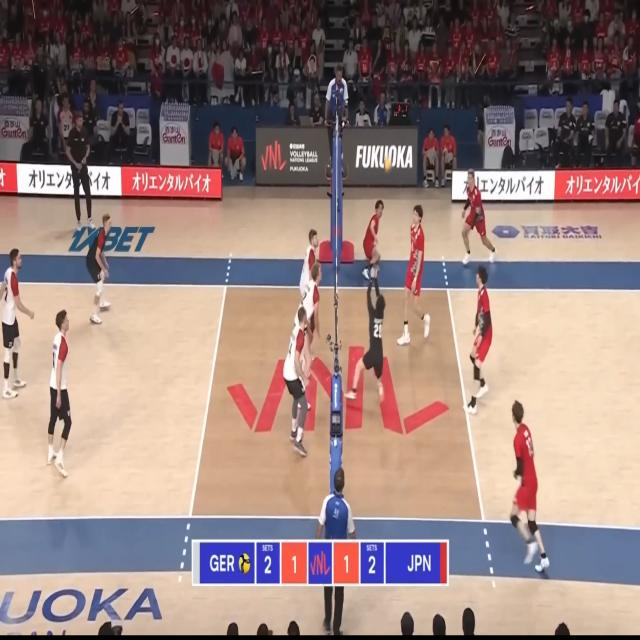ball: (385, 157, 391, 170)
